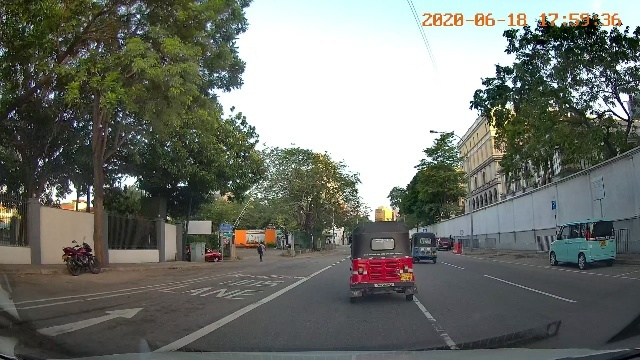BL: (154, 278, 287, 302)
SA: (28, 306, 146, 338)
